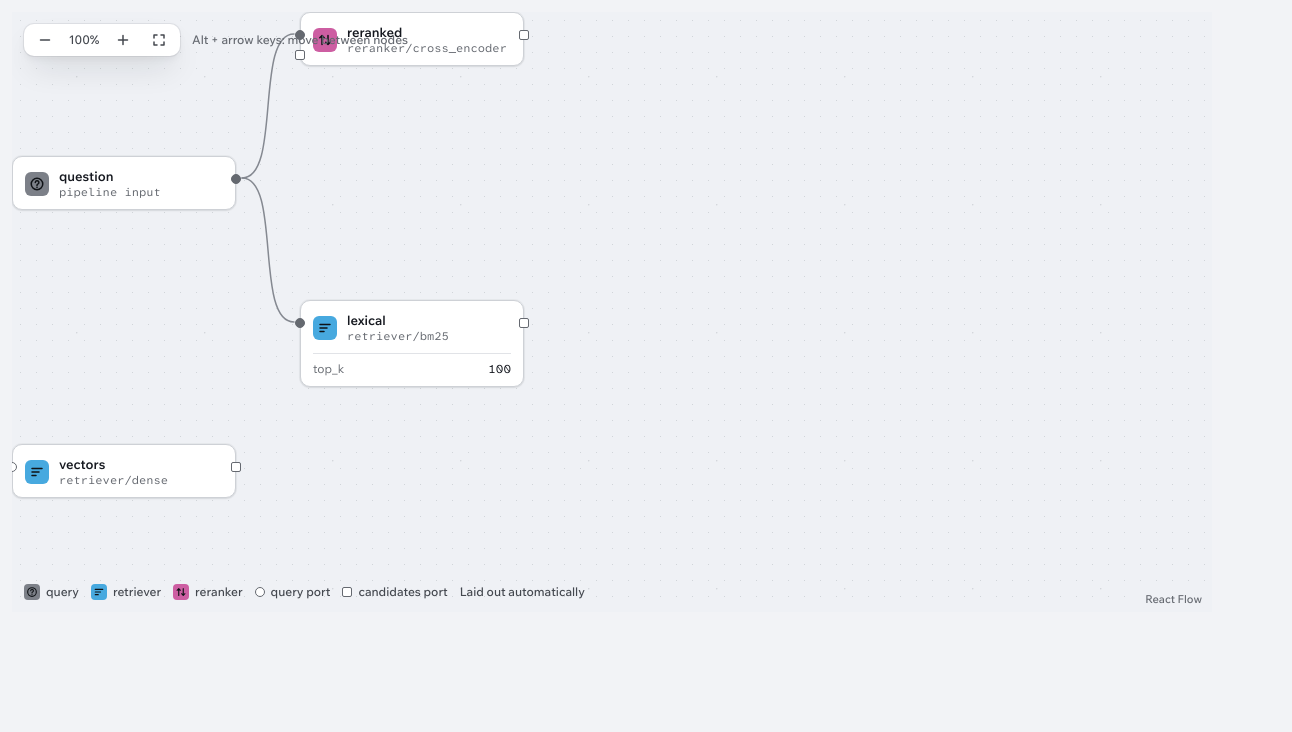
Canvas in write mode, an edge drawn by drag › says the reason of the port under the pointer, in a status line that is always there
Press the mouse on the 4th element with class "rg-port" at (236, 179), box 231,174 -> 241,184
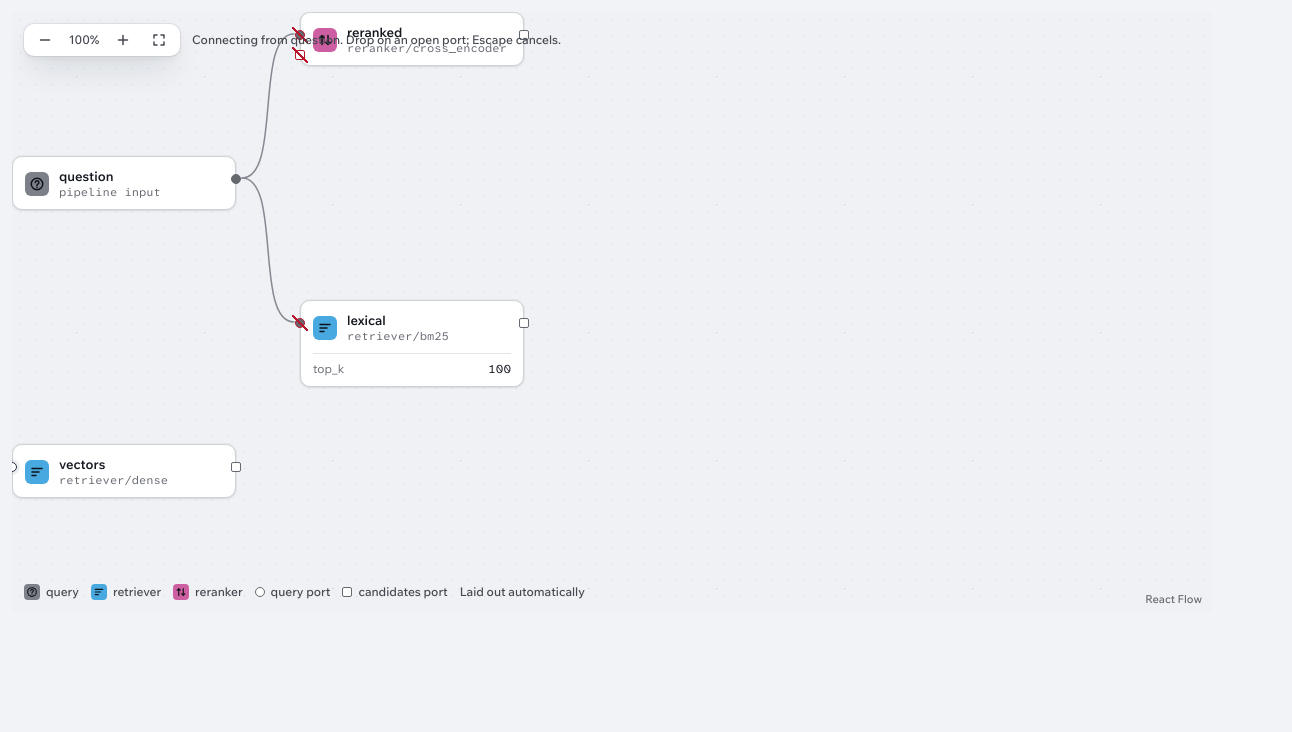
Now the message reads "Connecting from question. Drop on an open port; Escape cancels.", box 192,32 -> 561,47
Hover over the 3rd element with class "rg-port".
mouse_move(300, 55)  # box 295,50 -> 305,60
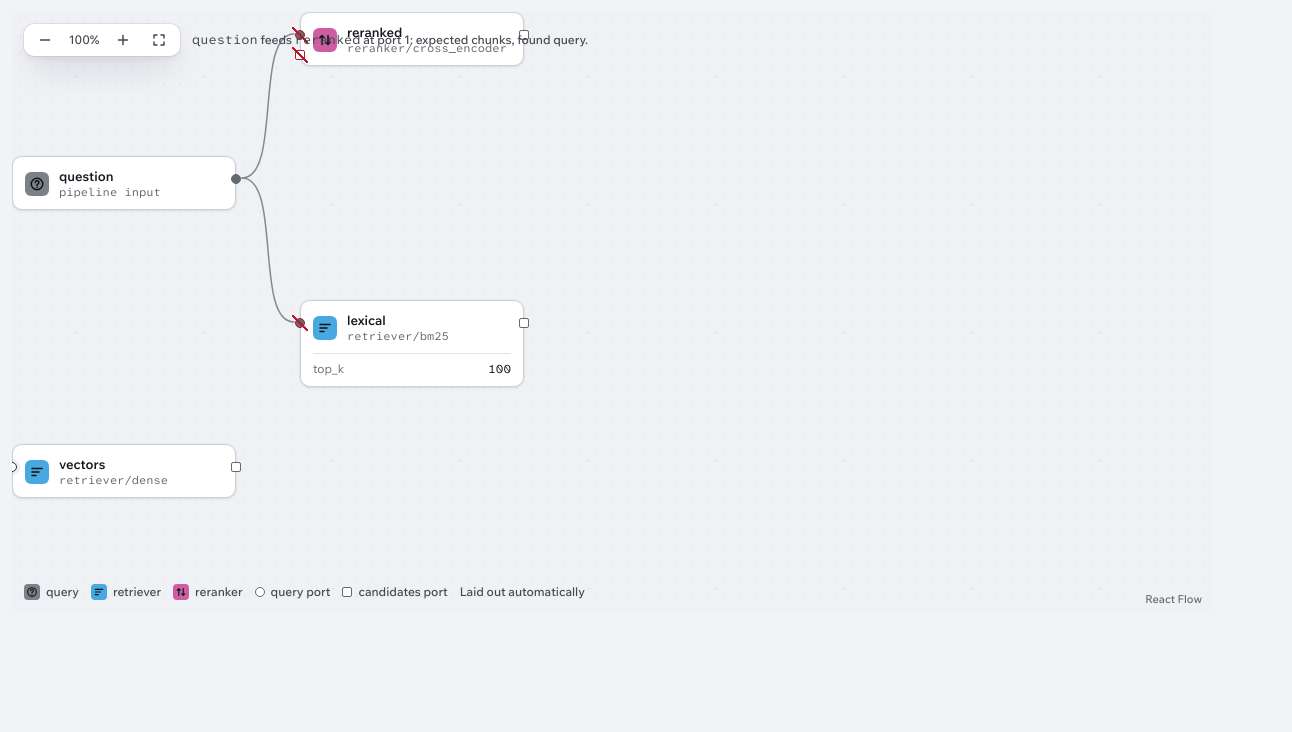
Now the text "question" next to "feeds" is shown, box 192,31 -> 258,48
Now the message reads "question feeds reranked at port 1: expected chunks, found query.", box 192,32 -> 588,47
